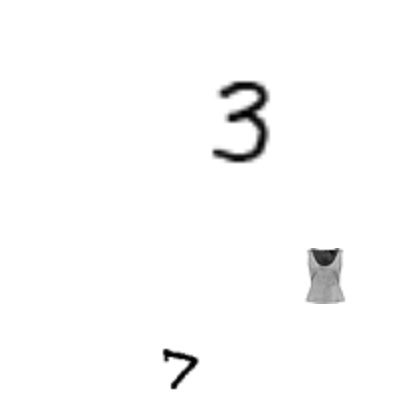3: (189, 62, 301, 174)
7: (151, 335, 207, 391)
Shirt: (297, 248, 353, 304)
